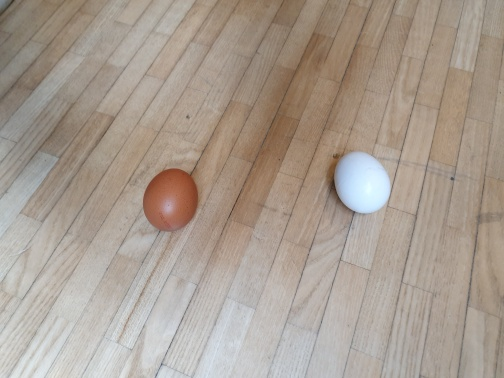egg: (332, 147, 391, 218), (141, 168, 196, 231)
